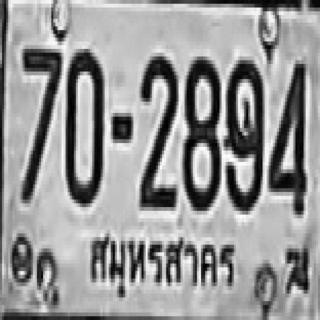N00: (64, 45, 102, 203)
N02: (138, 51, 178, 205)
N04: (267, 57, 306, 211)
N07: (20, 45, 60, 199)
N08: (180, 53, 220, 207)
N09: (224, 55, 262, 209)
P58: (81, 221, 240, 296)
